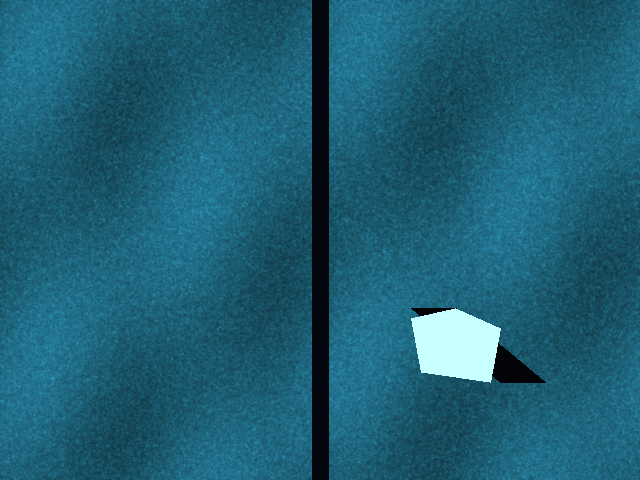Unknown Debris: (411, 308, 500, 382)
